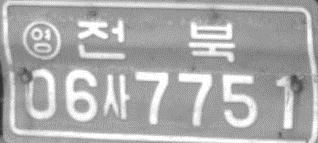0: (23, 68, 57, 120)
1: (269, 74, 303, 130)
5: (221, 74, 259, 128)
6: (64, 68, 98, 122)
7: (177, 72, 213, 128), (134, 70, 170, 125)
사: (101, 74, 130, 120)
영: (21, 19, 61, 60)
전북_D: (75, 16, 235, 63)
